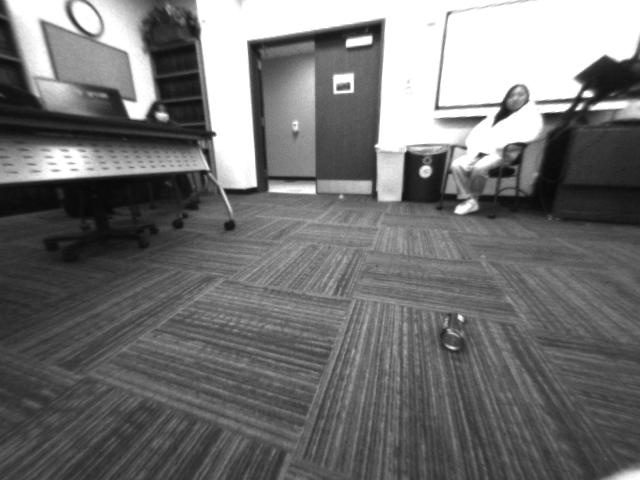can: (437, 306, 471, 362)
